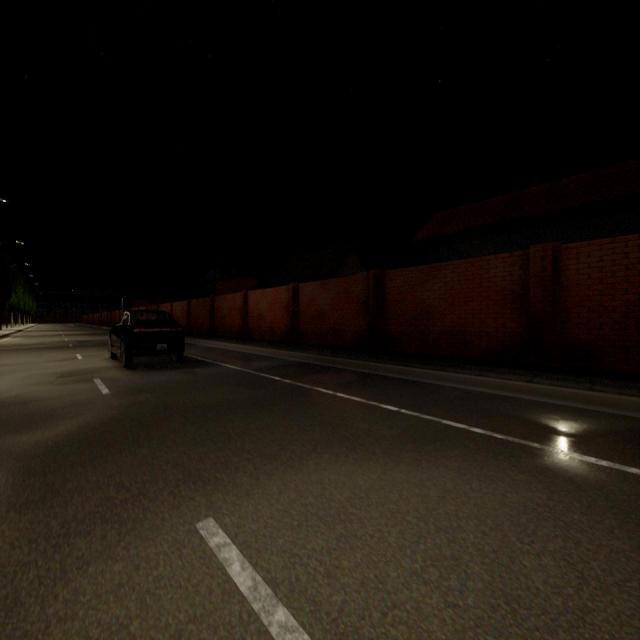Vehicle: (109, 310, 185, 368)
